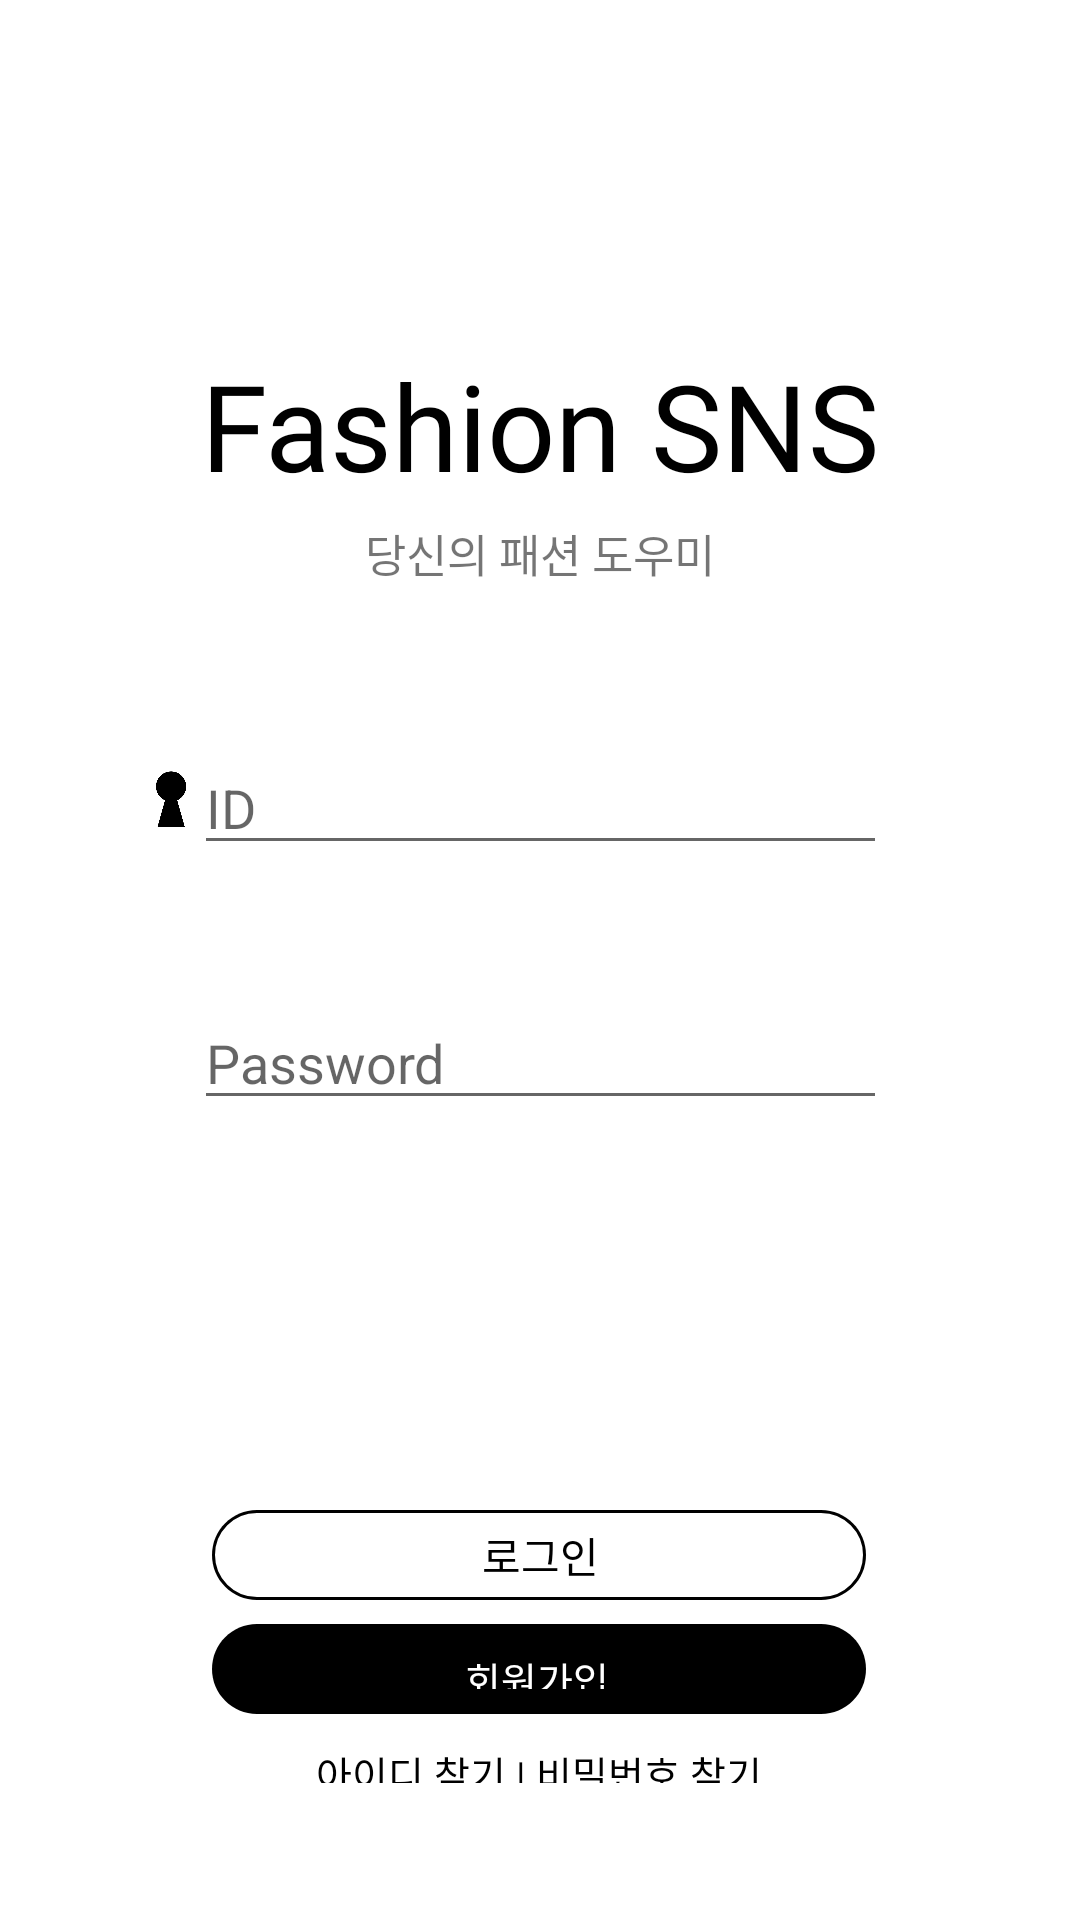

Icons on this 1080*1920 Android screen, each with the point to tap as (x=x, y=y):
hole: (x=171, y=799)
